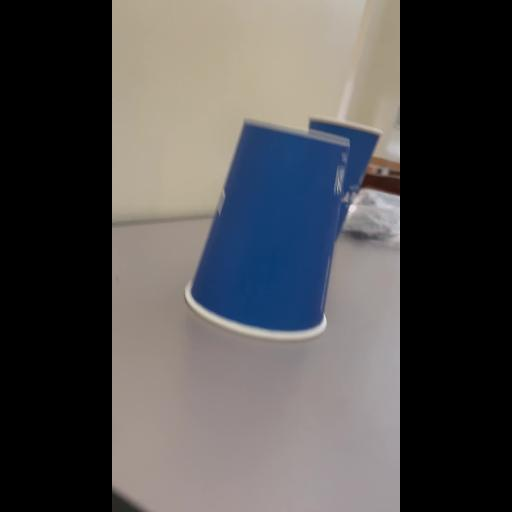lp_paper_cup: (181, 111, 353, 353), (308, 116, 384, 238)
